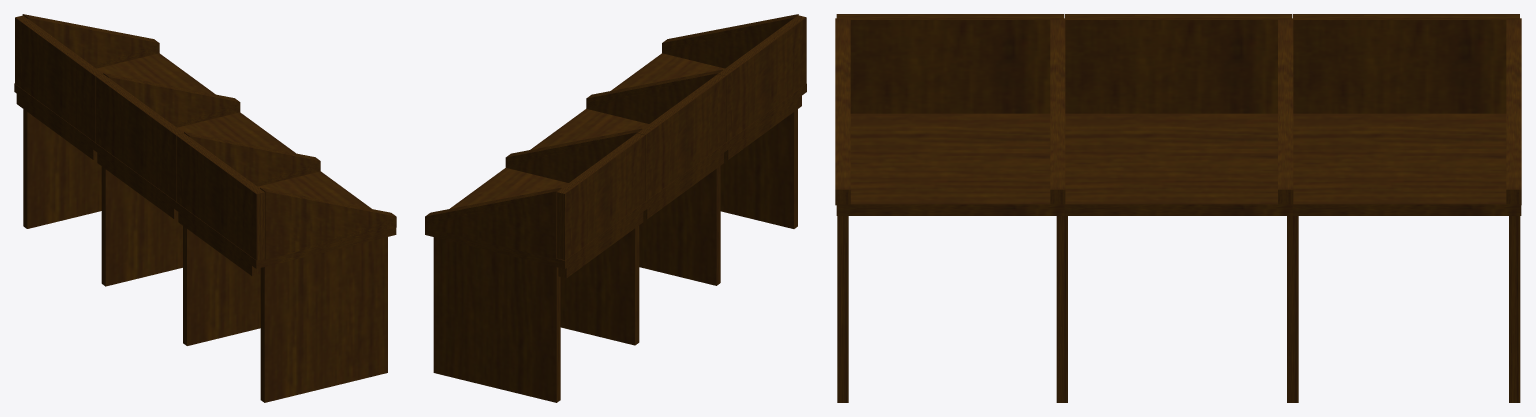
Rendered from backsitting.fbx.
3 renders of one model, left to right at view 1: azimuth 30°, elevation 25°; view 2: azimuth 150°, elevation 25°; view 3: azimuth 270°, elevation 25°, orthographic. The views are drawn at different scales.
Visible parts, largest first — view 1: backwall (×3), sittingarea2, side1 (×3), side2 (×3), sittingarea4, sittingarea5, sittingarea3, sittingarea, backwall4, backwall5, backwall1; view 2: backwall (×3), sittingarea5, side1 (×3), side2 (×3), sittingarea3, sittingarea4, sittingarea2, sittingarea, backwall5, backwall4, backwall1; view 3: side2 (×3), backwall (×3), side1 (×3), sittingarea, sittingarea2, sittingarea3, sittingarea4, sittingarea5.
Boxes of the visible parts, x1=… form: backwall (×3): x1=15, y1=15, x2=264, y2=260; sittingarea2: x1=260, y1=237, x2=387, y2=402; side1 (×3): x1=22, y1=14, x2=320, y2=186; side2 (×3): x1=14, y1=53, x2=396, y2=268; sittingarea4: x1=101, y1=166, x2=182, y2=286; sittingarea5: x1=23, y1=109, x2=101, y2=228; sittingarea3: x1=183, y1=226, x2=260, y2=345; sittingarea: x1=260, y1=187, x2=396, y2=259; backwall4: x1=97, y1=153, x2=178, y2=218; backwall5: x1=16, y1=94, x2=97, y2=159; backwall1: x1=178, y1=212, x2=260, y2=276; backwall (×3): x1=557, y1=15, x2=806, y2=260; sittingarea5: x1=433, y1=237, x2=560, y2=402; side1 (×3): x1=425, y1=69, x2=722, y2=259; side2 (×3): x1=425, y1=53, x2=806, y2=268; sittingarea3: x1=639, y1=166, x2=720, y2=285; sittingarea4: x1=560, y1=225, x2=639, y2=345; sittingarea2: x1=720, y1=109, x2=797, y2=228; sittingarea: x1=662, y1=14, x2=798, y2=68; backwall5: x1=558, y1=212, x2=643, y2=278; backwall4: x1=643, y1=153, x2=723, y2=219; backwall1: x1=724, y1=96, x2=801, y2=159; side2 (×3): x1=836, y1=113, x2=1521, y2=215; backwall (×3): x1=836, y1=14, x2=1519, y2=113; side1 (×3): x1=1050, y1=18, x2=1521, y2=204; sittingarea: x1=835, y1=18, x2=850, y2=205; sittingarea2: x1=837, y1=216, x2=848, y2=402; sittingarea3: x1=1056, y1=216, x2=1067, y2=402; sittingarea4: x1=1287, y1=216, x2=1298, y2=402; sittingarea5: x1=1509, y1=216, x2=1520, y2=402.
Bounding box in the file's own units: 1 × 1.45 × 3.
